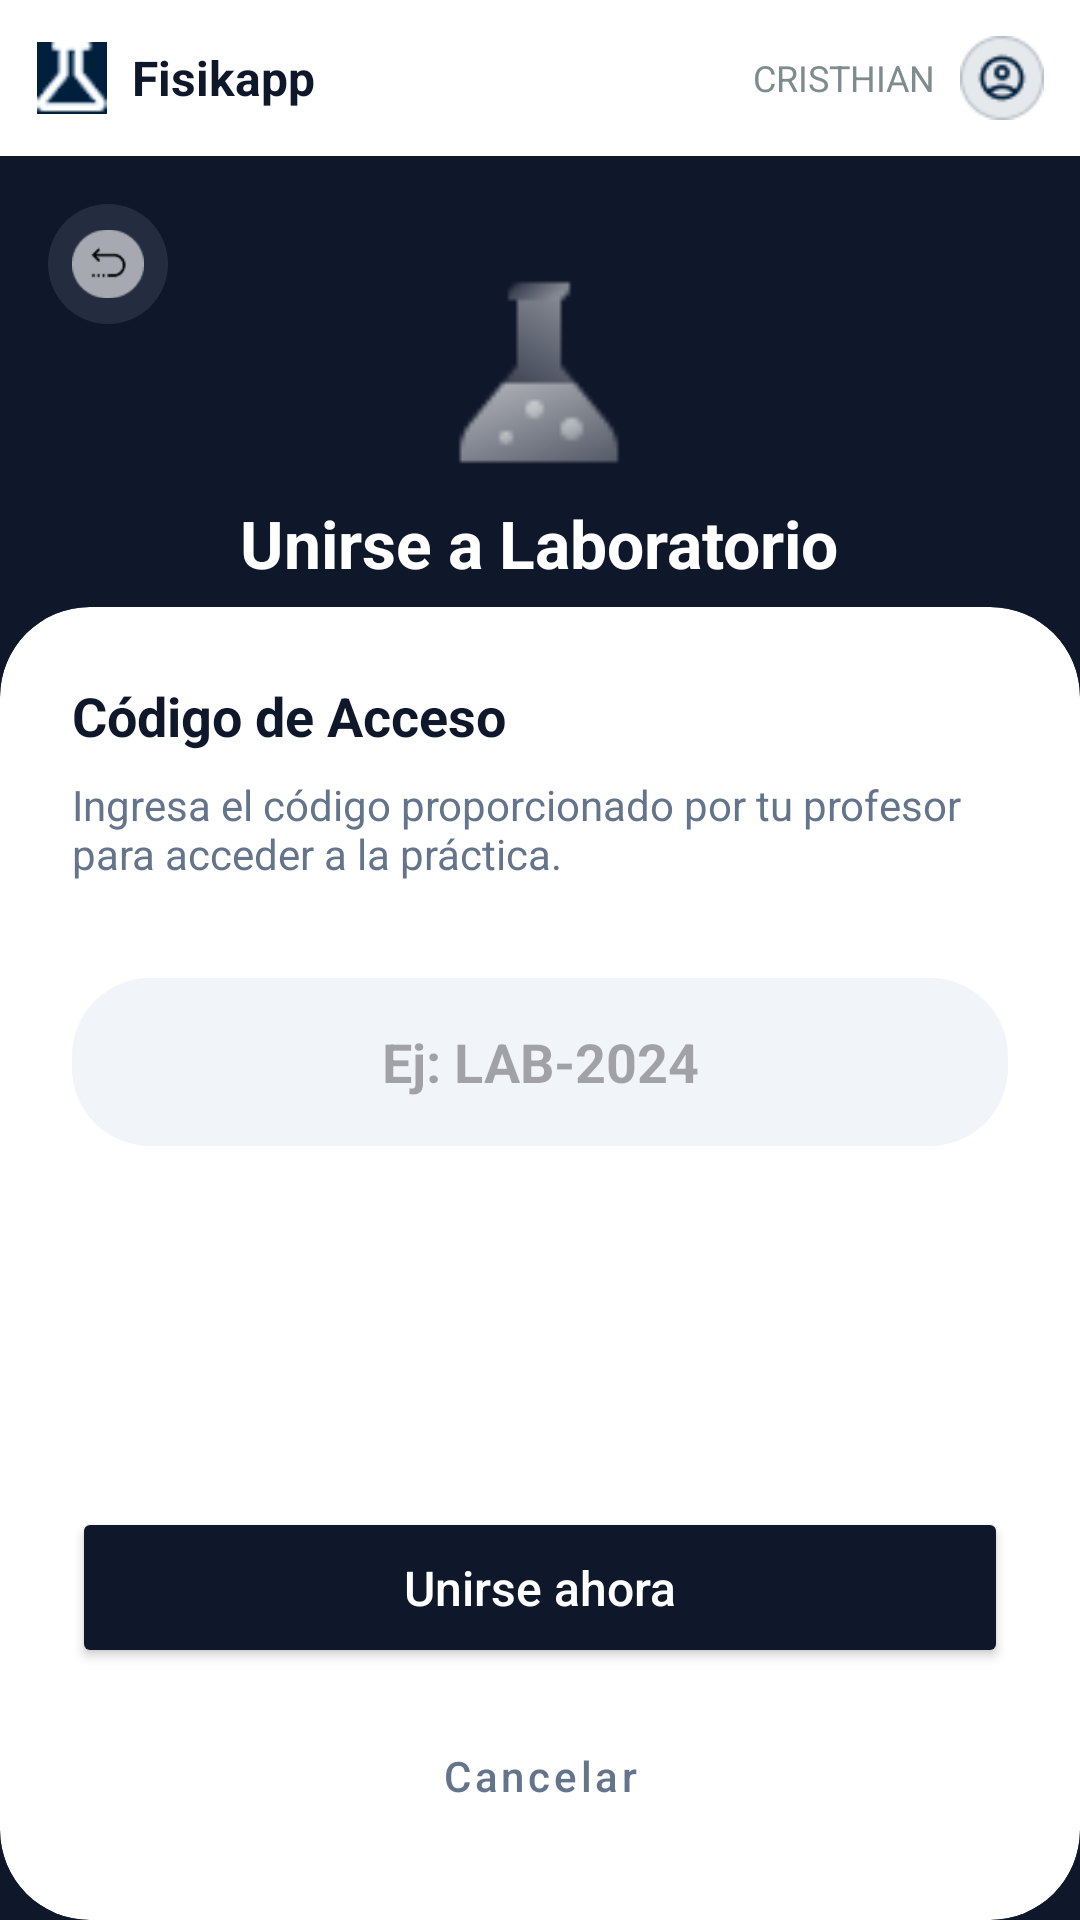

Point at icon controls on the screen. Image size 1080px x 1920px, points as (x=x, y=y).
iconofisik: (x=72, y=78)
iconoretroceder: (x=108, y=264)
iconousuario: (x=1002, y=78)
tubo: (x=539, y=372)
